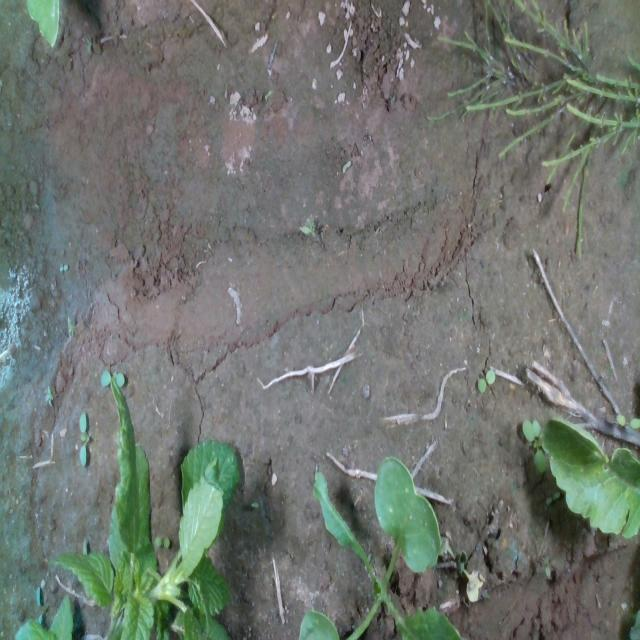weed: (77, 410, 89, 468), (477, 367, 495, 395), (153, 534, 169, 547)
